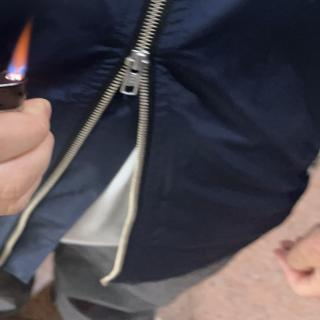fire: (2, 24, 32, 72)
